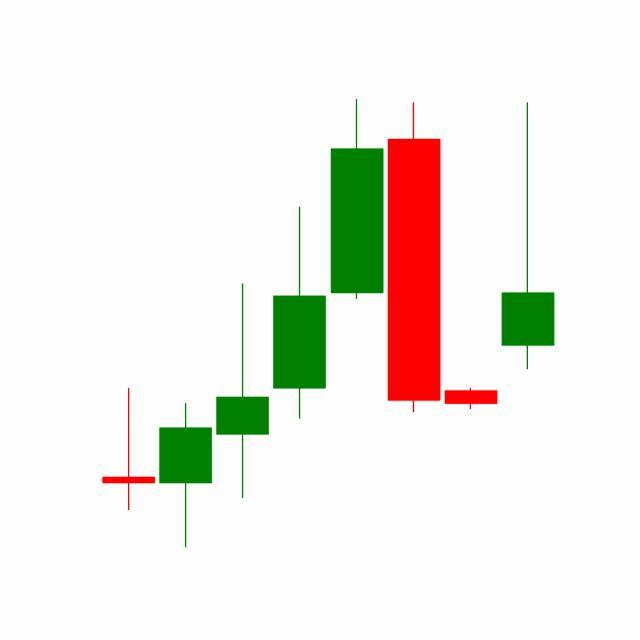Three Outside Up-Down: (328, 99, 500, 417)
